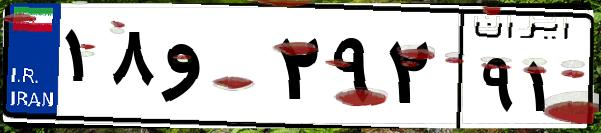1: (57, 26, 110, 100), (525, 38, 570, 115)
2: (270, 28, 330, 110), (385, 28, 445, 110)
8: (110, 28, 158, 98)
9: (330, 28, 385, 110), (475, 38, 525, 113)
و: (158, 20, 270, 120)
